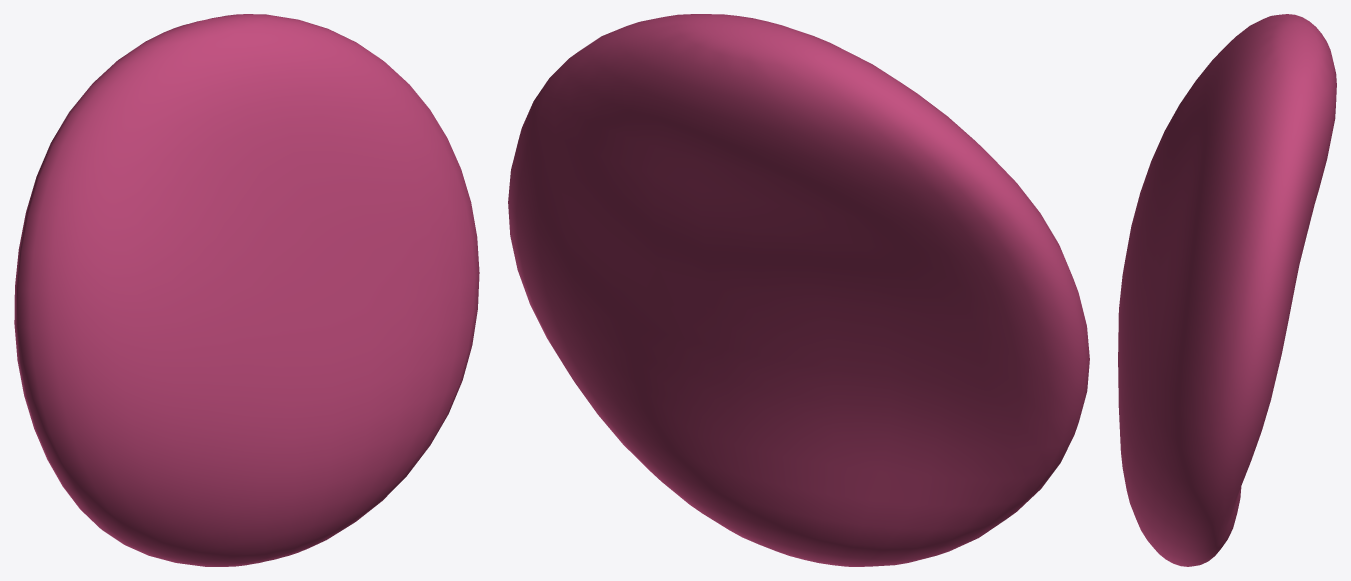
3 views of the same model, side by side, from view 1: azimuth 30°, elevation 25°; view 2: azimuth 150°, elevation 25°; view 3: azimuth 270°, elevation 25° (orthographic). The views are drawn at different scales.
Parts seen in each view (by area): view 1: 右侧肩峰下囊; view 2: 右侧肩峰下囊; view 3: 右侧肩峰下囊.
Boxes of the visible parts, x1,y1,x2,y2 form: 右侧肩峰下囊: [14, 14, 479, 566]; 右侧肩峰下囊: [508, 14, 1089, 566]; 右侧肩峰下囊: [1118, 14, 1336, 566].
Bounding box in the file's own units: 0.0341 × 0.0342 × 0.0135.
